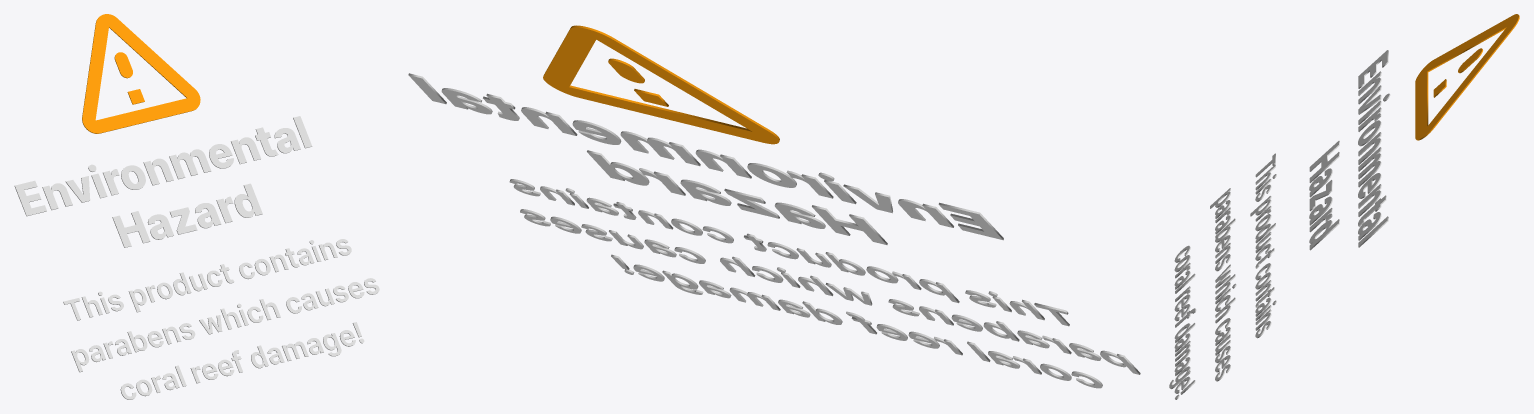
Rendered from badEnvCard.obj.
3 views of the same model, side by side, from view 1: azimuth 30°, elevation 25°; view 2: azimuth 150°, elevation 25°; view 3: azimuth 270°, elevation 25° (orthographic). The views are drawn at different scales.
Visible parts, largest first — view 1: Curve.002_Curve.013, Curve_Curve.011, Curve.001_Curve.012; view 2: Curve.002_Curve.013, Curve_Curve.011, Curve.001_Curve.012; view 3: Curve.002_Curve.013, Curve_Curve.011, Curve.001_Curve.012.
Part boxes in pixels (x1,y1,x2,y2): Curve.002_Curve.013: (63, 239, 379, 399); Curve_Curve.011: (14, 116, 312, 247); Curve.001_Curve.012: (82, 14, 200, 133); Curve.002_Curve.013: (509, 179, 1140, 388); Curve_Curve.011: (408, 73, 1003, 244); Curve.001_Curve.012: (543, 25, 779, 144); Curve.002_Curve.013: (1169, 153, 1276, 399); Curve_Curve.011: (1309, 50, 1390, 250); Curve.001_Curve.012: (1415, 14, 1519, 140).
Size of the model in its own units: 1.4 by 1.14 by 1.14.
